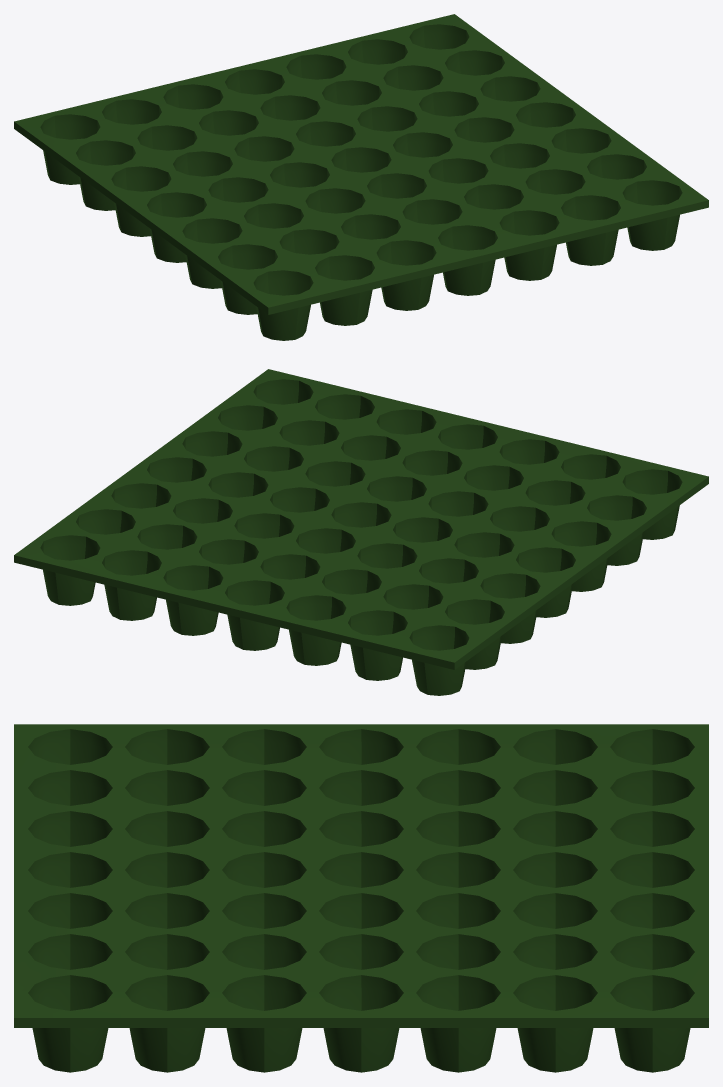
File: Nursery_Empty.glb
3 views of the same model, one above another, from view 1: azimuth 30°, elevation 25°; view 2: azimuth 150°, elevation 25°; view 3: azimuth 270°, elevation 25° (orthographic). The views are drawn at different scales.
Visible parts, largest first — view 1: Nursery_Empty; view 2: Nursery_Empty; view 3: Nursery_Empty.
Part boxes in pixels (x1,y1,x2,y2): Nursery_Empty: [14, 14, 708, 340]; Nursery_Empty: [14, 369, 708, 695]; Nursery_Empty: [14, 724, 708, 1072].
Bounding box in the file's own units: 3.58 × 0.3765 × 3.58.
1 material, 1 textured.
